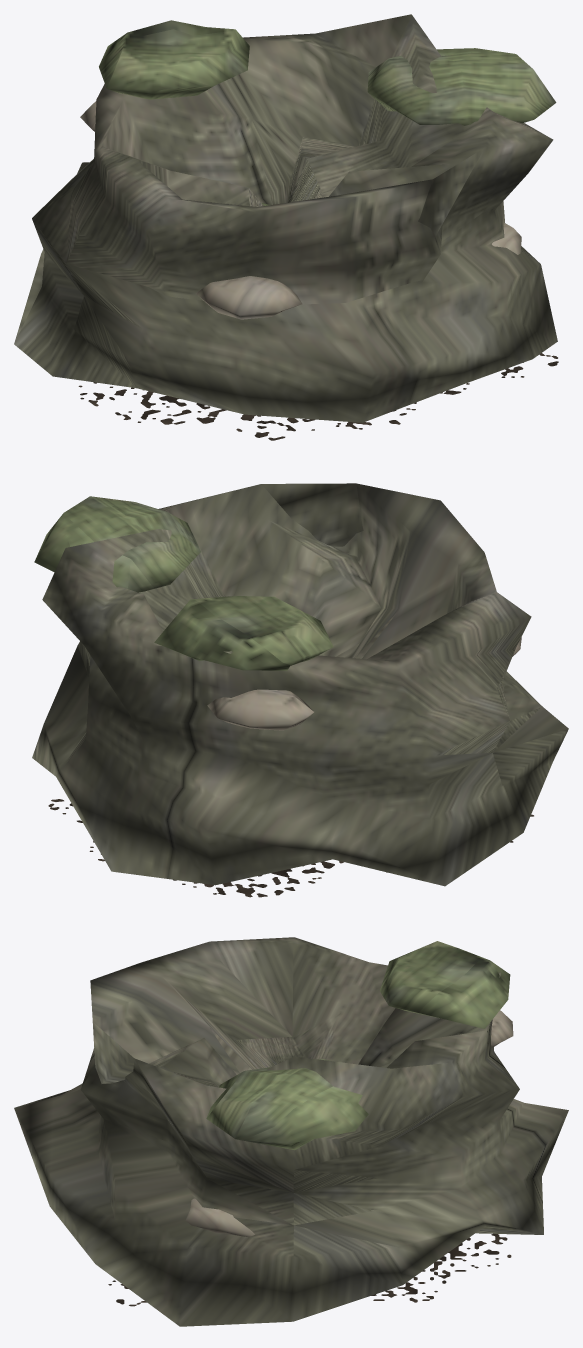
The model's file is stump_rotten.glb.
3 renders of one model, top to bottom at view 1: azimuth 30°, elevation 25°; view 2: azimuth 150°, elevation 25°; view 3: azimuth 270°, elevation 25°, orthographic. The views are drawn at different scales.
Parts seen in each view (by area): view 1: stump_rotten; view 2: stump_rotten; view 3: stump_rotten.
Part boxes in pixels (box(x1,y1,x2,y2)): stump_rotten: box(14, 14, 558, 440); stump_rotten: box(32, 483, 568, 897); stump_rotten: box(14, 937, 568, 1326).
Bounding box in the file's own units: 0.9522 × 0.4941 × 0.9962.
Materials: 2 (2 with a texture image).
